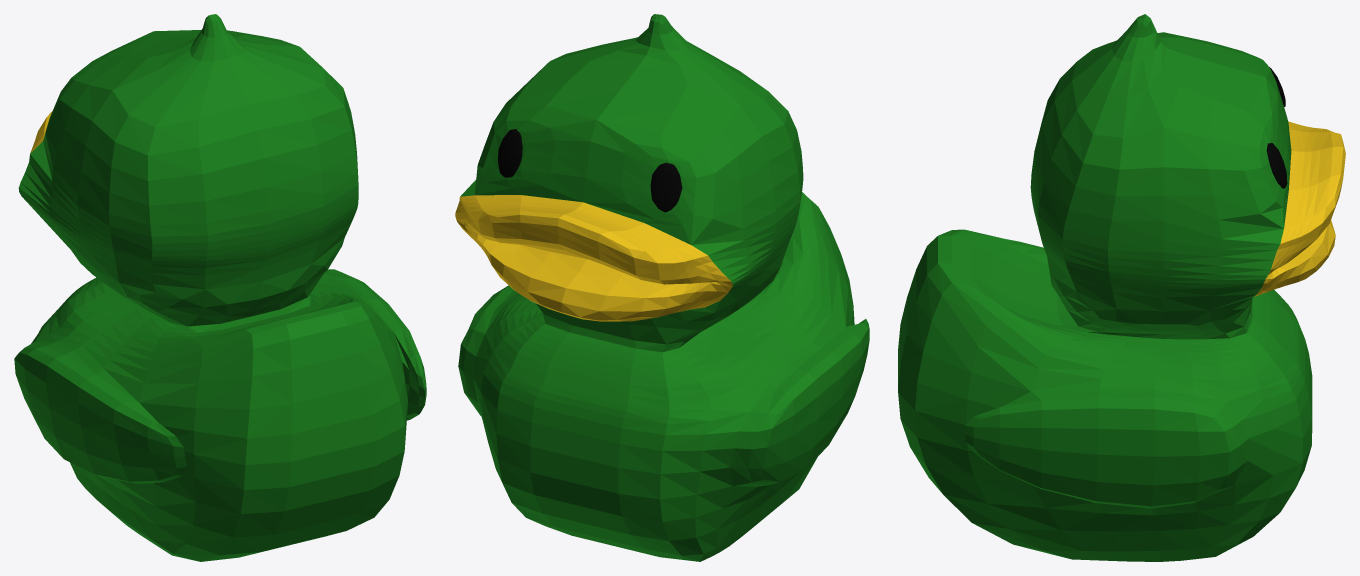
The model's file is Green_duckie_YellowBeak.FBX.
The picture shows the model from 3 angles, left to right: view 1: azimuth 30°, elevation 25°; view 2: azimuth 150°, elevation 25°; view 3: azimuth 270°, elevation 25°; orthographic projection.
Parts seen in each view (by area): view 1: duckie; view 2: duckie, duckie_mouth, eye_right, eye_left; view 3: duckie, duckie_mouth, eye_left.
Boxes of the visible parts, box(x1,y1,x2,y2) form: duckie: box(14, 14, 426, 561); duckie: box(458, 14, 869, 561); duckie_mouth: box(455, 195, 732, 321); eye_right: box(650, 162, 682, 212); eye_left: box(497, 129, 522, 177); duckie: box(898, 14, 1312, 561); duckie_mouth: box(1254, 121, 1345, 296); eye_left: box(1266, 143, 1287, 188).
Size of the model in its own units: 41.14 by 60.97 by 48.13.
